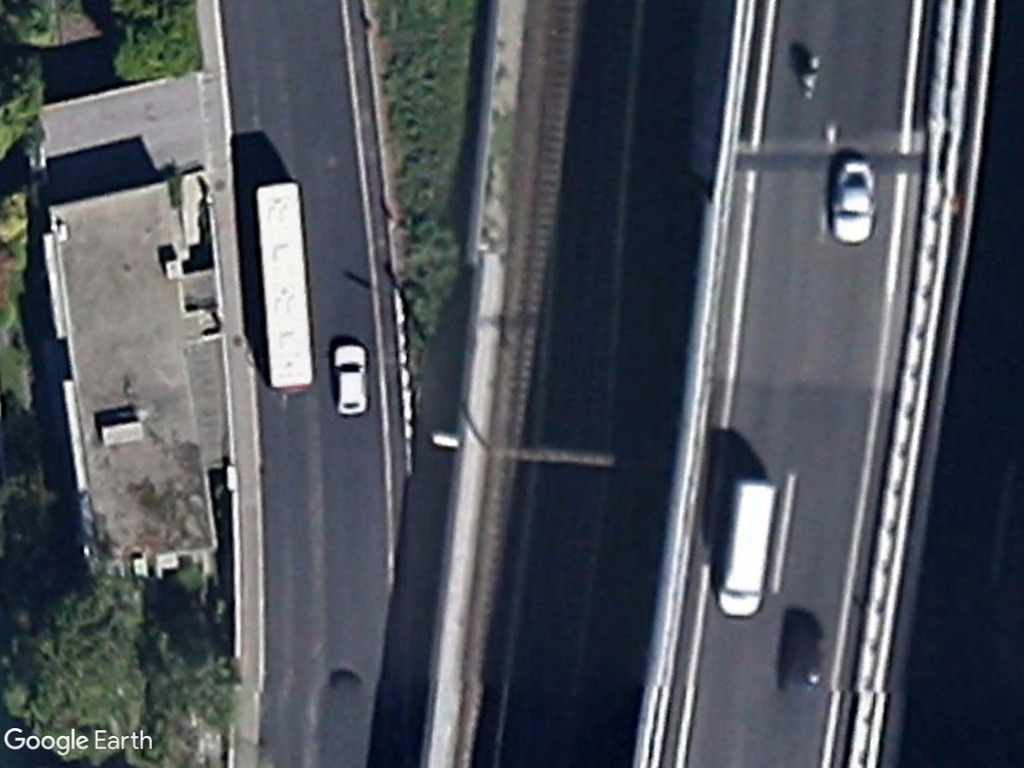bus: (251, 178, 323, 400)
car: (331, 340, 372, 417)
van: (710, 478, 782, 618)
